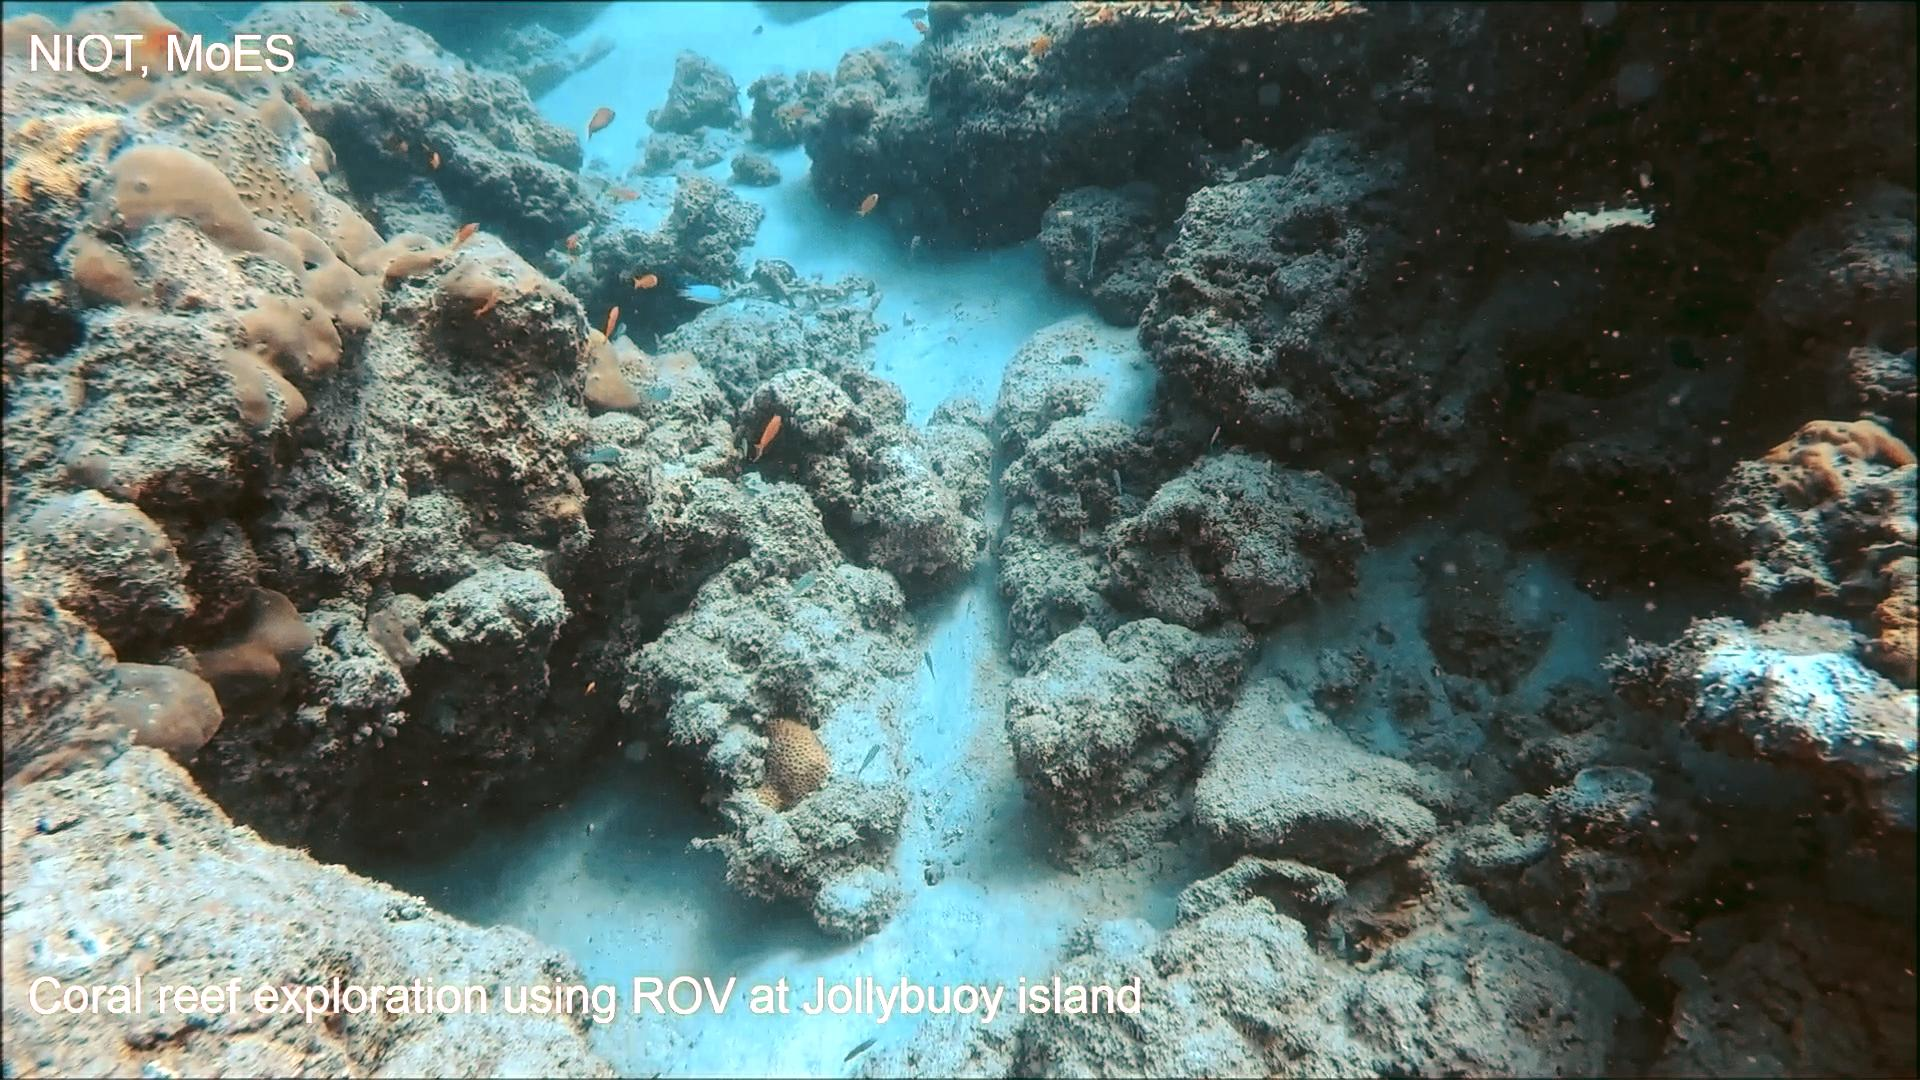Porites-Porites pukoensis: (0, 0, 462, 444)
